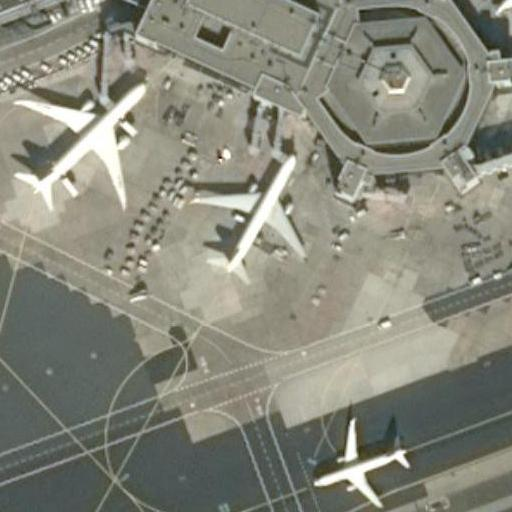Aircraft: (2, 72, 147, 216), (6, 73, 151, 213), (187, 142, 305, 284), (186, 146, 307, 283), (304, 409, 410, 510), (307, 411, 412, 509), (487, 0, 512, 22), (492, 0, 512, 22)
